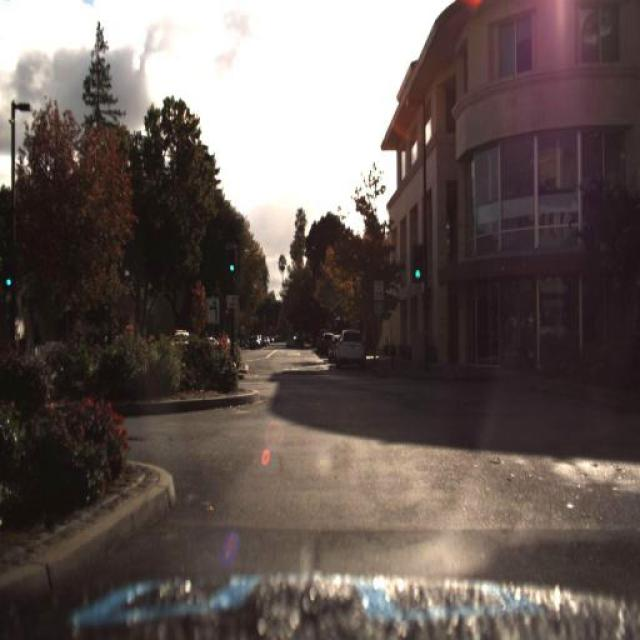semaforo: (411, 245, 426, 284)
